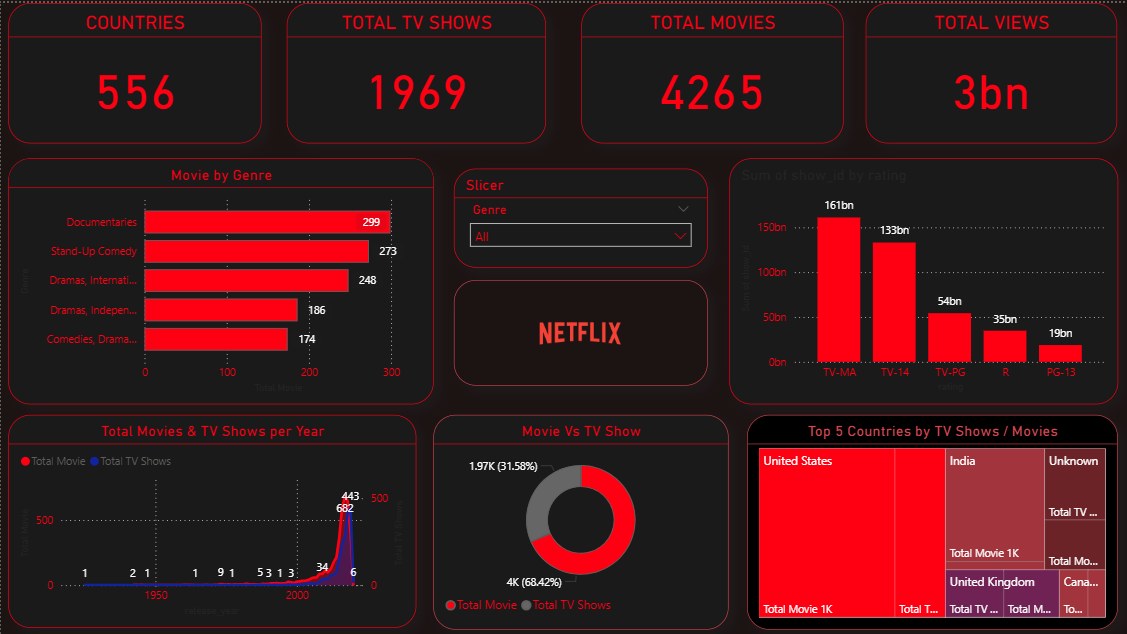

The page's visual inventory and layout, read from the dashboard file:
{"tool":"powerbi","page":{"name":"Page 1","canvas":[1280,720],"ordinal":0},"visuals":[{"type":"card","title":"TOTAL TV SHOWS","fields":{"Values":["netflix_titles (2).Total TV Shows"]},"box":[325,0,295,160],"z":0},{"type":"card","title":"TOTAL MOVIES","fields":{"Values":["netflix_titles (2).Total Movie"]},"box":[660,0,298.3,160],"z":1000},{"type":"card","title":"TOTAL VIEWS","fields":{"Values":["Sum(netflix_titles (2).Views)"]},"box":[984,0,286,160],"z":2000},{"type":"card","title":"COUNTRIES","fields":{"Values":["netflix_titles (2).Country Count"]},"box":[8,0,288,160],"z":3000},{"type":"clusteredBarChart","title":"Movie by Genre","fields":{"Category":["netflix_titles (2).Genre"],"Y":["netflix_titles (2).Total Movie"]},"box":[8,176,484,280],"z":4000},{"type":"columnChart","fields":{"Category":["netflix_titles (2).rating"],"Y":["Sum(netflix_titles (2).show_id)"]},"box":[828,176,442,280],"z":5000},{"type":"lineChart","title":"Total Movies & TV Shows per Year","fields":{"Category":["netflix_titles (2).release_year"],"Y":["netflix_titles (2).Total Movie"],"Y2":["netflix_titles (2).Total TV Shows"]},"box":[8,468,464,242],"z":6000},{"type":"donutChart","title":"Movie Vs TV Show","fields":{"Y":["netflix_titles (2).Total Movie","netflix_titles (2).Total TV Shows"]},"box":[492,468,336,244],"z":7000},{"type":"treemap","title":"Top 5 Countries by TV Shows / Movies","fields":{"Group":["netflix_titles (2).country"],"Values":["netflix_titles (2).Total Movie","netflix_titles (2).Total TV Shows"]},"box":[848,468,422,244],"z":8000},{"type":"image","box":[515.7,315.7,288.6,120],"z":9000},{"type":"slicer","title":"Slicer","fields":{"Values":["netflix_titles (2).Genre"]},"box":[515.7,188.6,288.6,112.9],"z":10000}]}

Visuals, with their boxes in screenshot pixels (x1, y1, x2, y2), scaled from the page's 1280x720 canvas onto the 1127x634 screenshot:
"TOTAL TV SHOWS" card: rect(286, 0, 546, 141)
"TOTAL MOVIES" card: rect(581, 0, 844, 141)
"TOTAL VIEWS" card: rect(866, 0, 1118, 141)
"COUNTRIES" card: rect(7, 0, 261, 141)
"Movie by Genre" clusteredBarChart: rect(7, 155, 433, 402)
columnChart - netflix_titles (2).rating x Sum(netflix_titles (2).show_id): rect(729, 155, 1118, 402)
"Total Movies & TV Shows per Year" lineChart: rect(7, 412, 416, 625)
"Movie Vs TV Show" donutChart: rect(433, 412, 729, 627)
"Top 5 Countries by TV Shows / Movies" treemap: rect(747, 412, 1118, 627)
image: rect(454, 278, 708, 384)
"Slicer" slicer: rect(454, 166, 708, 265)
